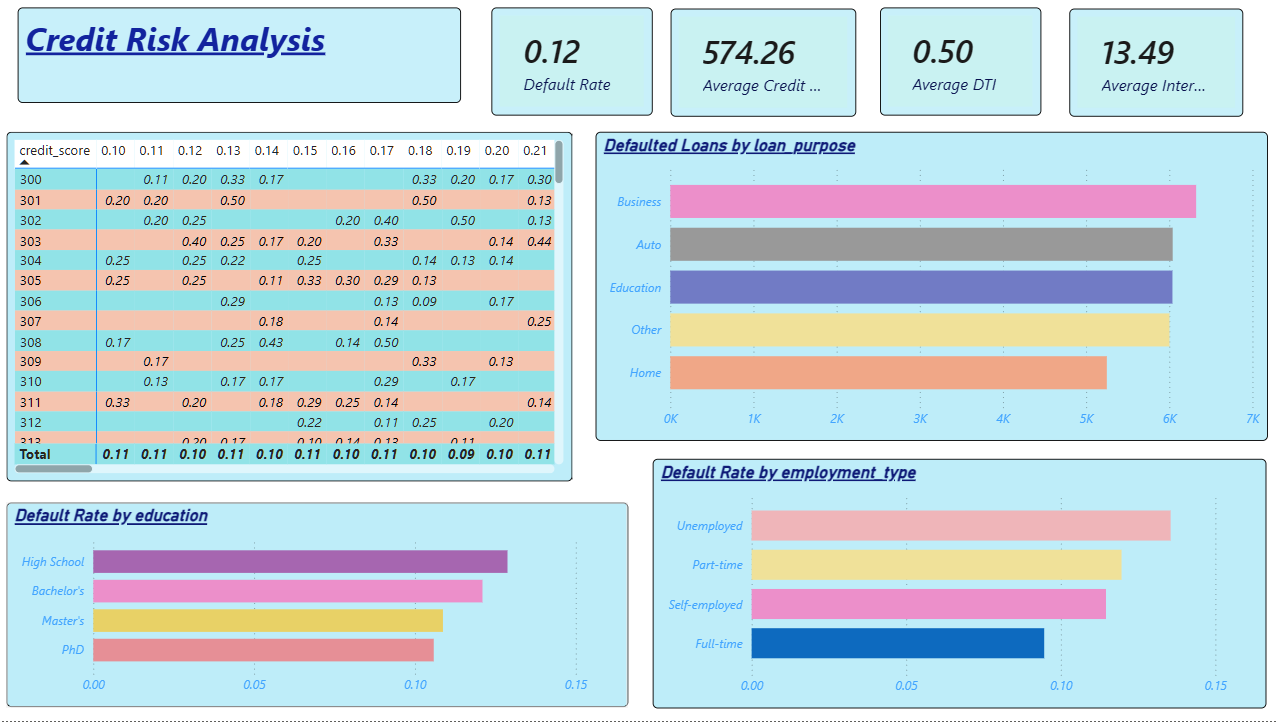

Layout of this report page (visuals, bound fields, positions):
{"tool":"powerbi","page":{"name":"Page 2","canvas":[1280,720],"ordinal":1},"visuals":[{"type":"cardVisual","fields":{"Data":["banking loan_default.Default Rate"]},"box":[493.5,13.5,159.7,106.8],"z":0},{"type":"textbox","box":[24.4,13.3,439.4,94.3],"z":1},{"type":"cardVisual","fields":{"Data":["banking loan_default.Average Credit Score"]},"box":[670.8,14.5,183.5,106.8],"z":2},{"type":"cardVisual","fields":{"Data":["banking loan_default.Average DTI"]},"box":[879.2,13.5,159.7,106.8],"z":3},{"type":"cardVisual","fields":{"Data":["banking loan_default.Average Interest Rate"]},"box":[1065.8,14.5,172.1,106.8],"z":4},{"type":"pivotTable","fields":{"Rows":["banking loan_default.credit_score"],"Columns":["banking loan_default.dti_ratio"],"Values":["banking loan_default.Default Rate"]},"box":[13.3,136.5,560.3,346.2],"z":5},{"type":"clusteredBarChart","fields":{"Category":["banking loan_default.loan_purpose"],"Y":["banking loan_default.Defaulted Loans"]},"box":[596.9,136.5,665.7,306.2],"z":6},{"type":"clusteredBarChart","fields":{"Category":["banking loan_default.employment_type"],"Y":["banking loan_default.Default Rate"]},"box":[653.5,460.5,608,247.4],"z":7},{"type":"clusteredBarChart","fields":{"Category":["banking loan_default.education"],"Y":["banking loan_default.Default Rate"]},"box":[13.3,503.7,615.8,203],"z":8}]}

Visuals, with their boxes in screenshot pixels (x1, y1, x2, y2), scaled from the page's 1280x720 canvas onto the 1276x722 screenshot:
cardVisual - banking loan_default.Default Rate: detection(492, 14, 651, 121)
textbox: detection(24, 13, 462, 108)
cardVisual - banking loan_default.Average Credit Score: detection(669, 15, 852, 122)
cardVisual - banking loan_default.Average DTI: detection(876, 14, 1036, 121)
cardVisual - banking loan_default.Average Interest Rate: detection(1062, 15, 1234, 122)
pivotTable - banking loan_default.credit_score x banking loan_default.dti_ratio: detection(13, 137, 572, 484)
clusteredBarChart - banking loan_default.loan_purpose x banking loan_default.Defaulted Loans: detection(595, 137, 1259, 444)
clusteredBarChart - banking loan_default.employment_type x banking loan_default.Default Rate: detection(651, 462, 1258, 710)
clusteredBarChart - banking loan_default.education x banking loan_default.Default Rate: detection(13, 505, 627, 709)
